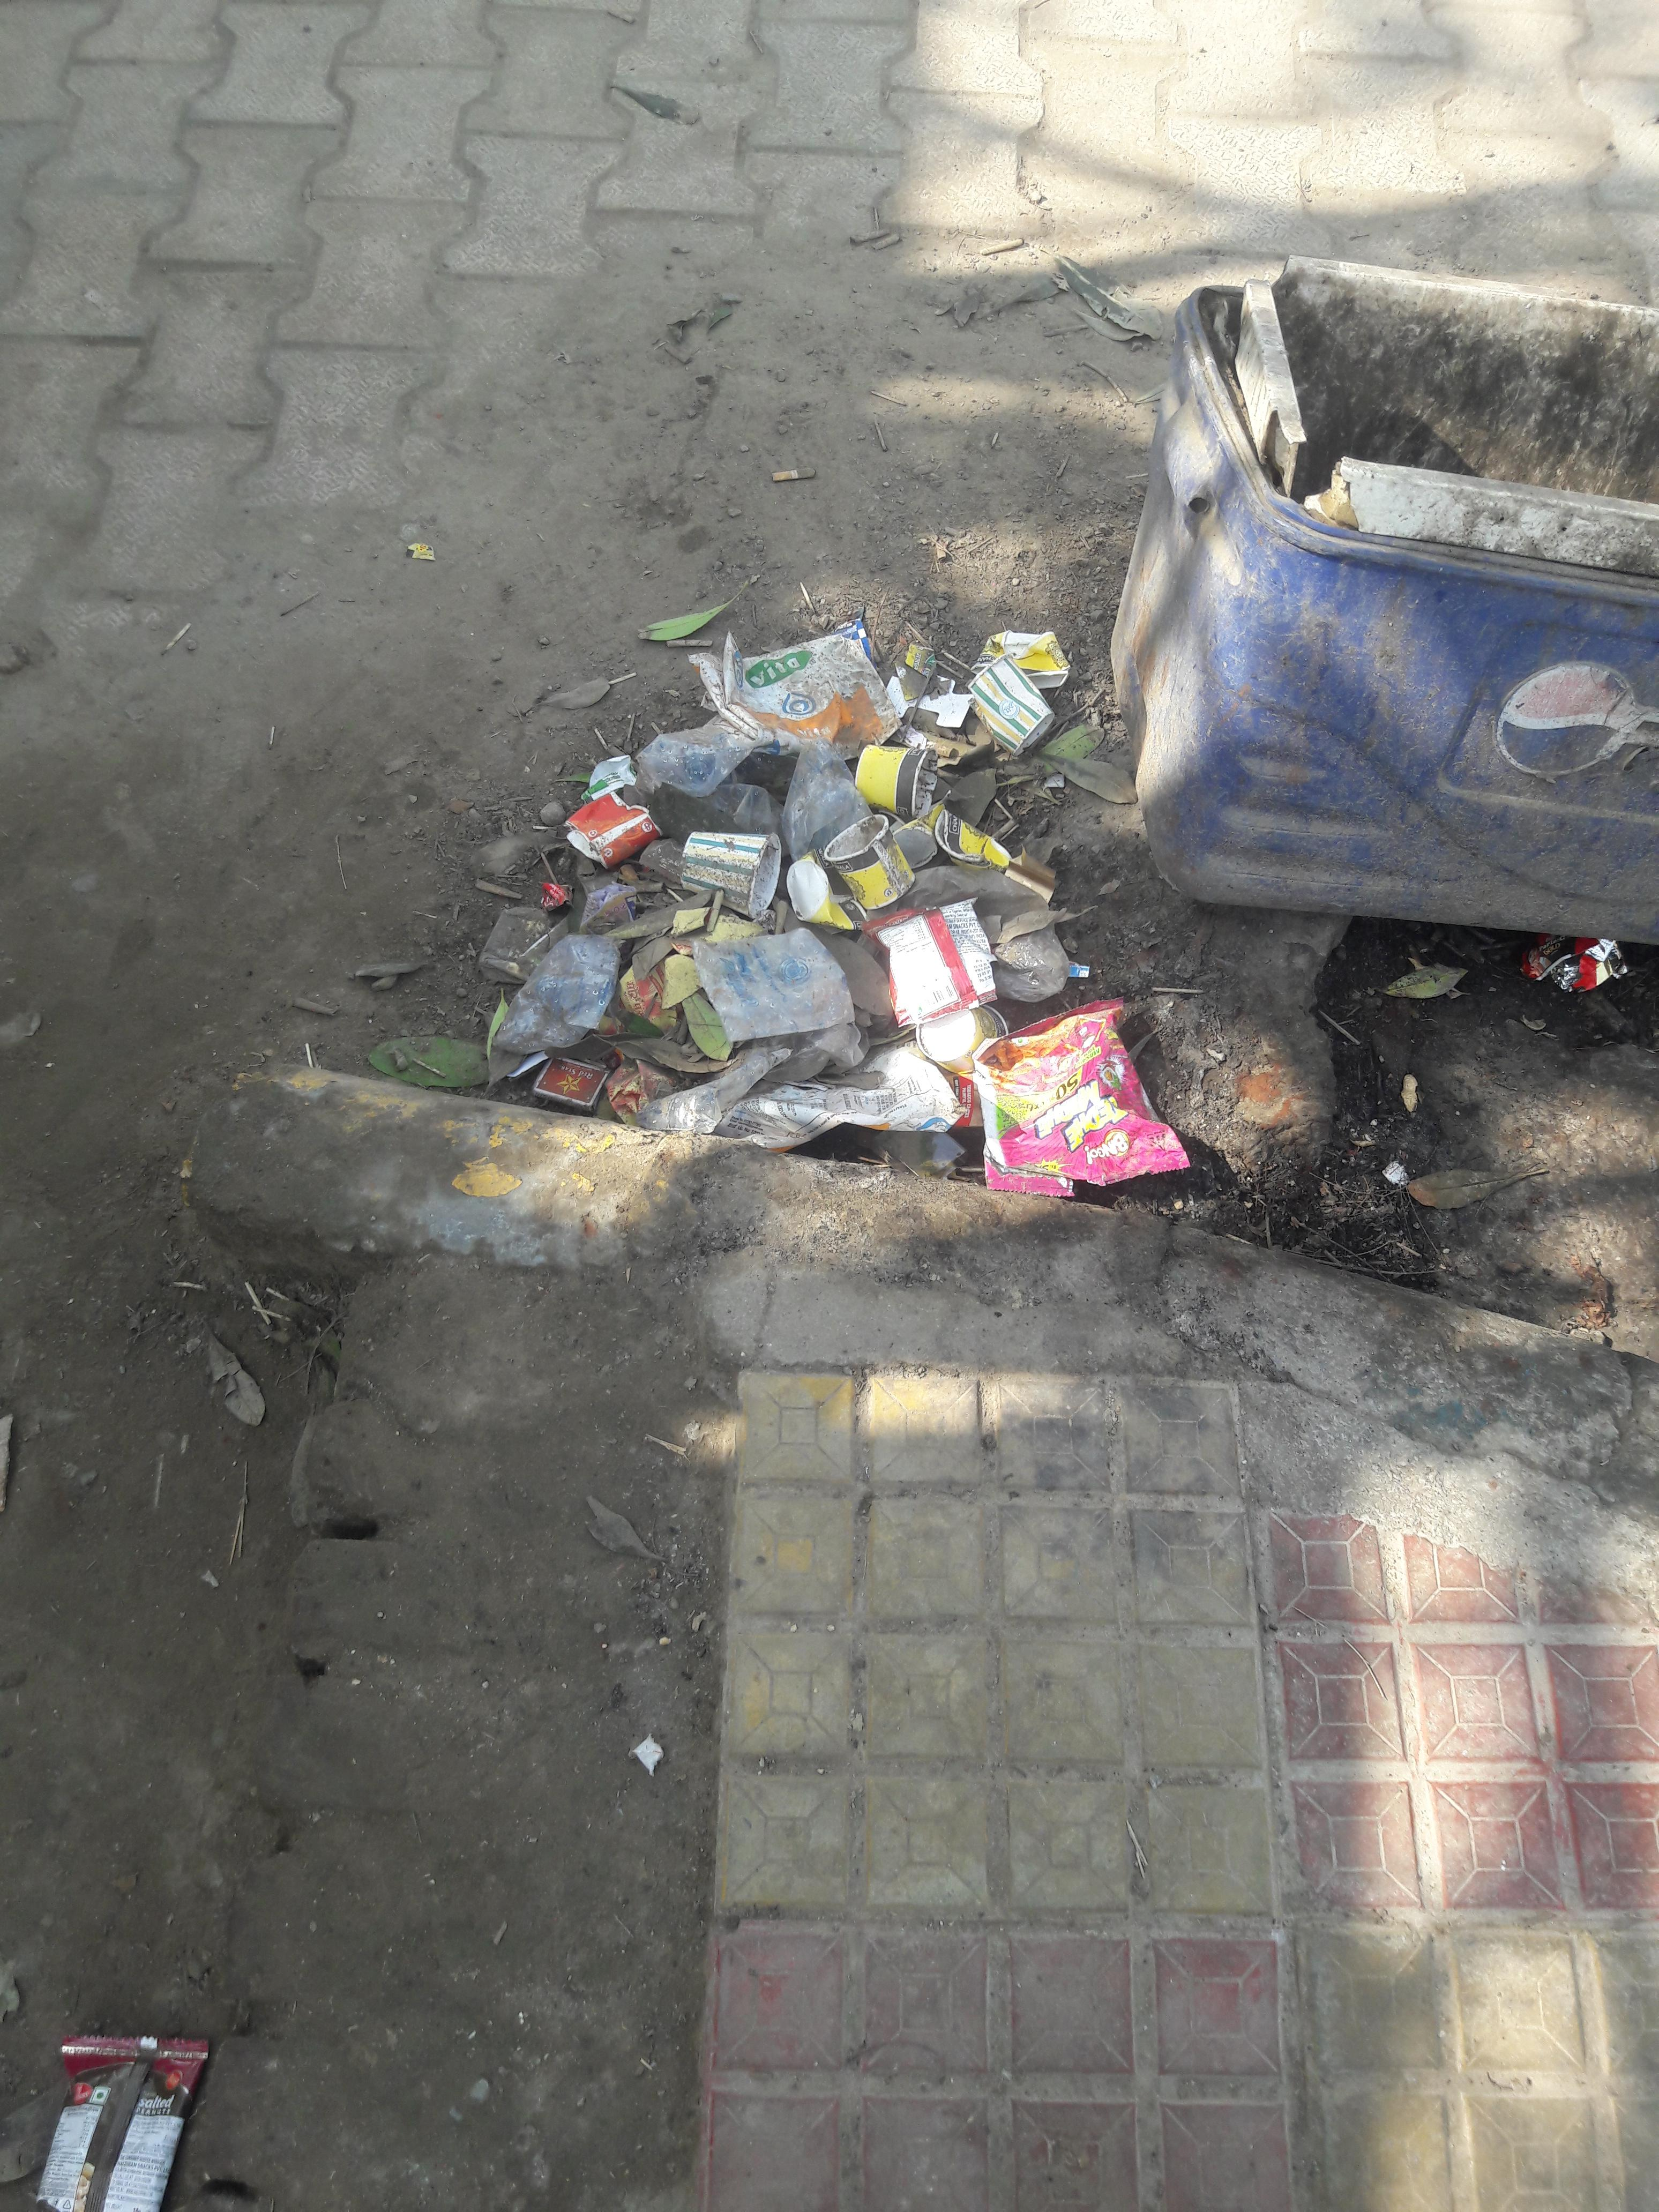trash: (451, 589, 1202, 1217)
